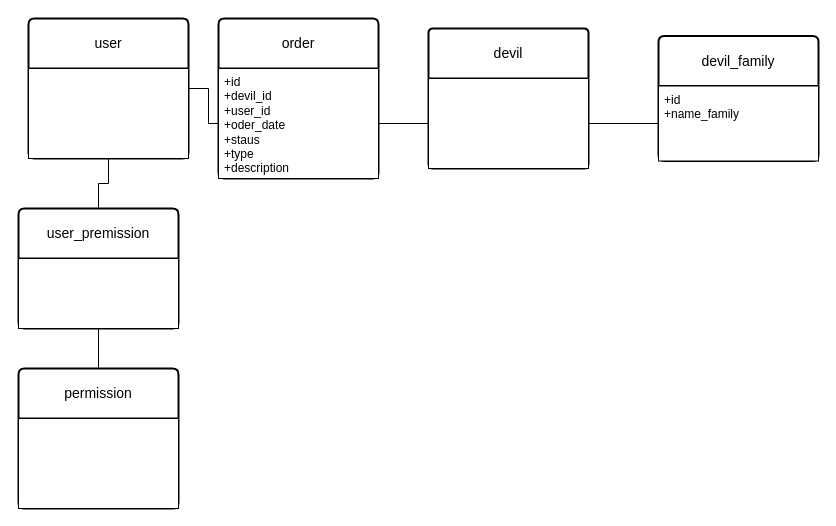
This 836x526 diagram has some shape labels left out. The centre of each missing label's shape, as x and y in pixels:
"+id +devil_name +devil_type +family_id +devil_power" goes at point (508, 123).
"+id +email +password +username" goes at point (108, 113).
"+id +permission_level +permission_type +permission_description" goes at point (98, 463).
"+user_id +permission_id" goes at point (98, 293).
